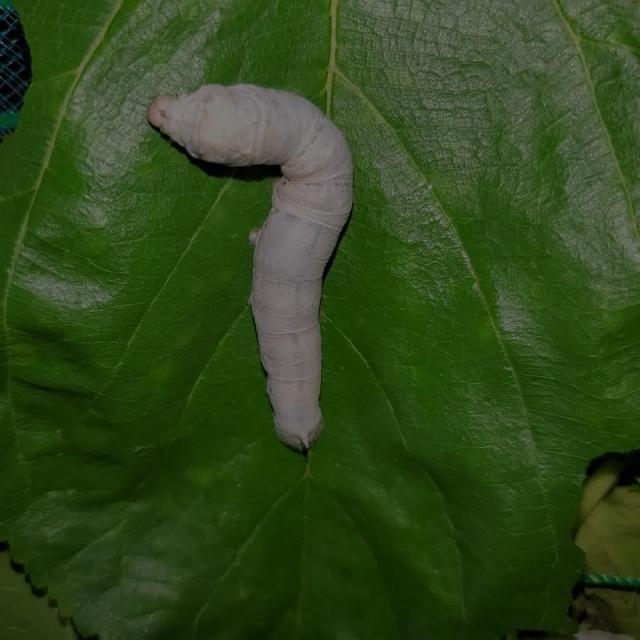Healthy: (140, 74, 364, 459)
